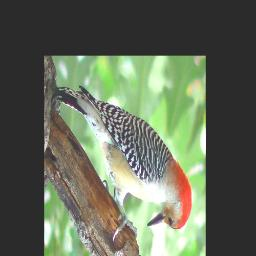Woodpecker: (53, 80, 195, 242)
